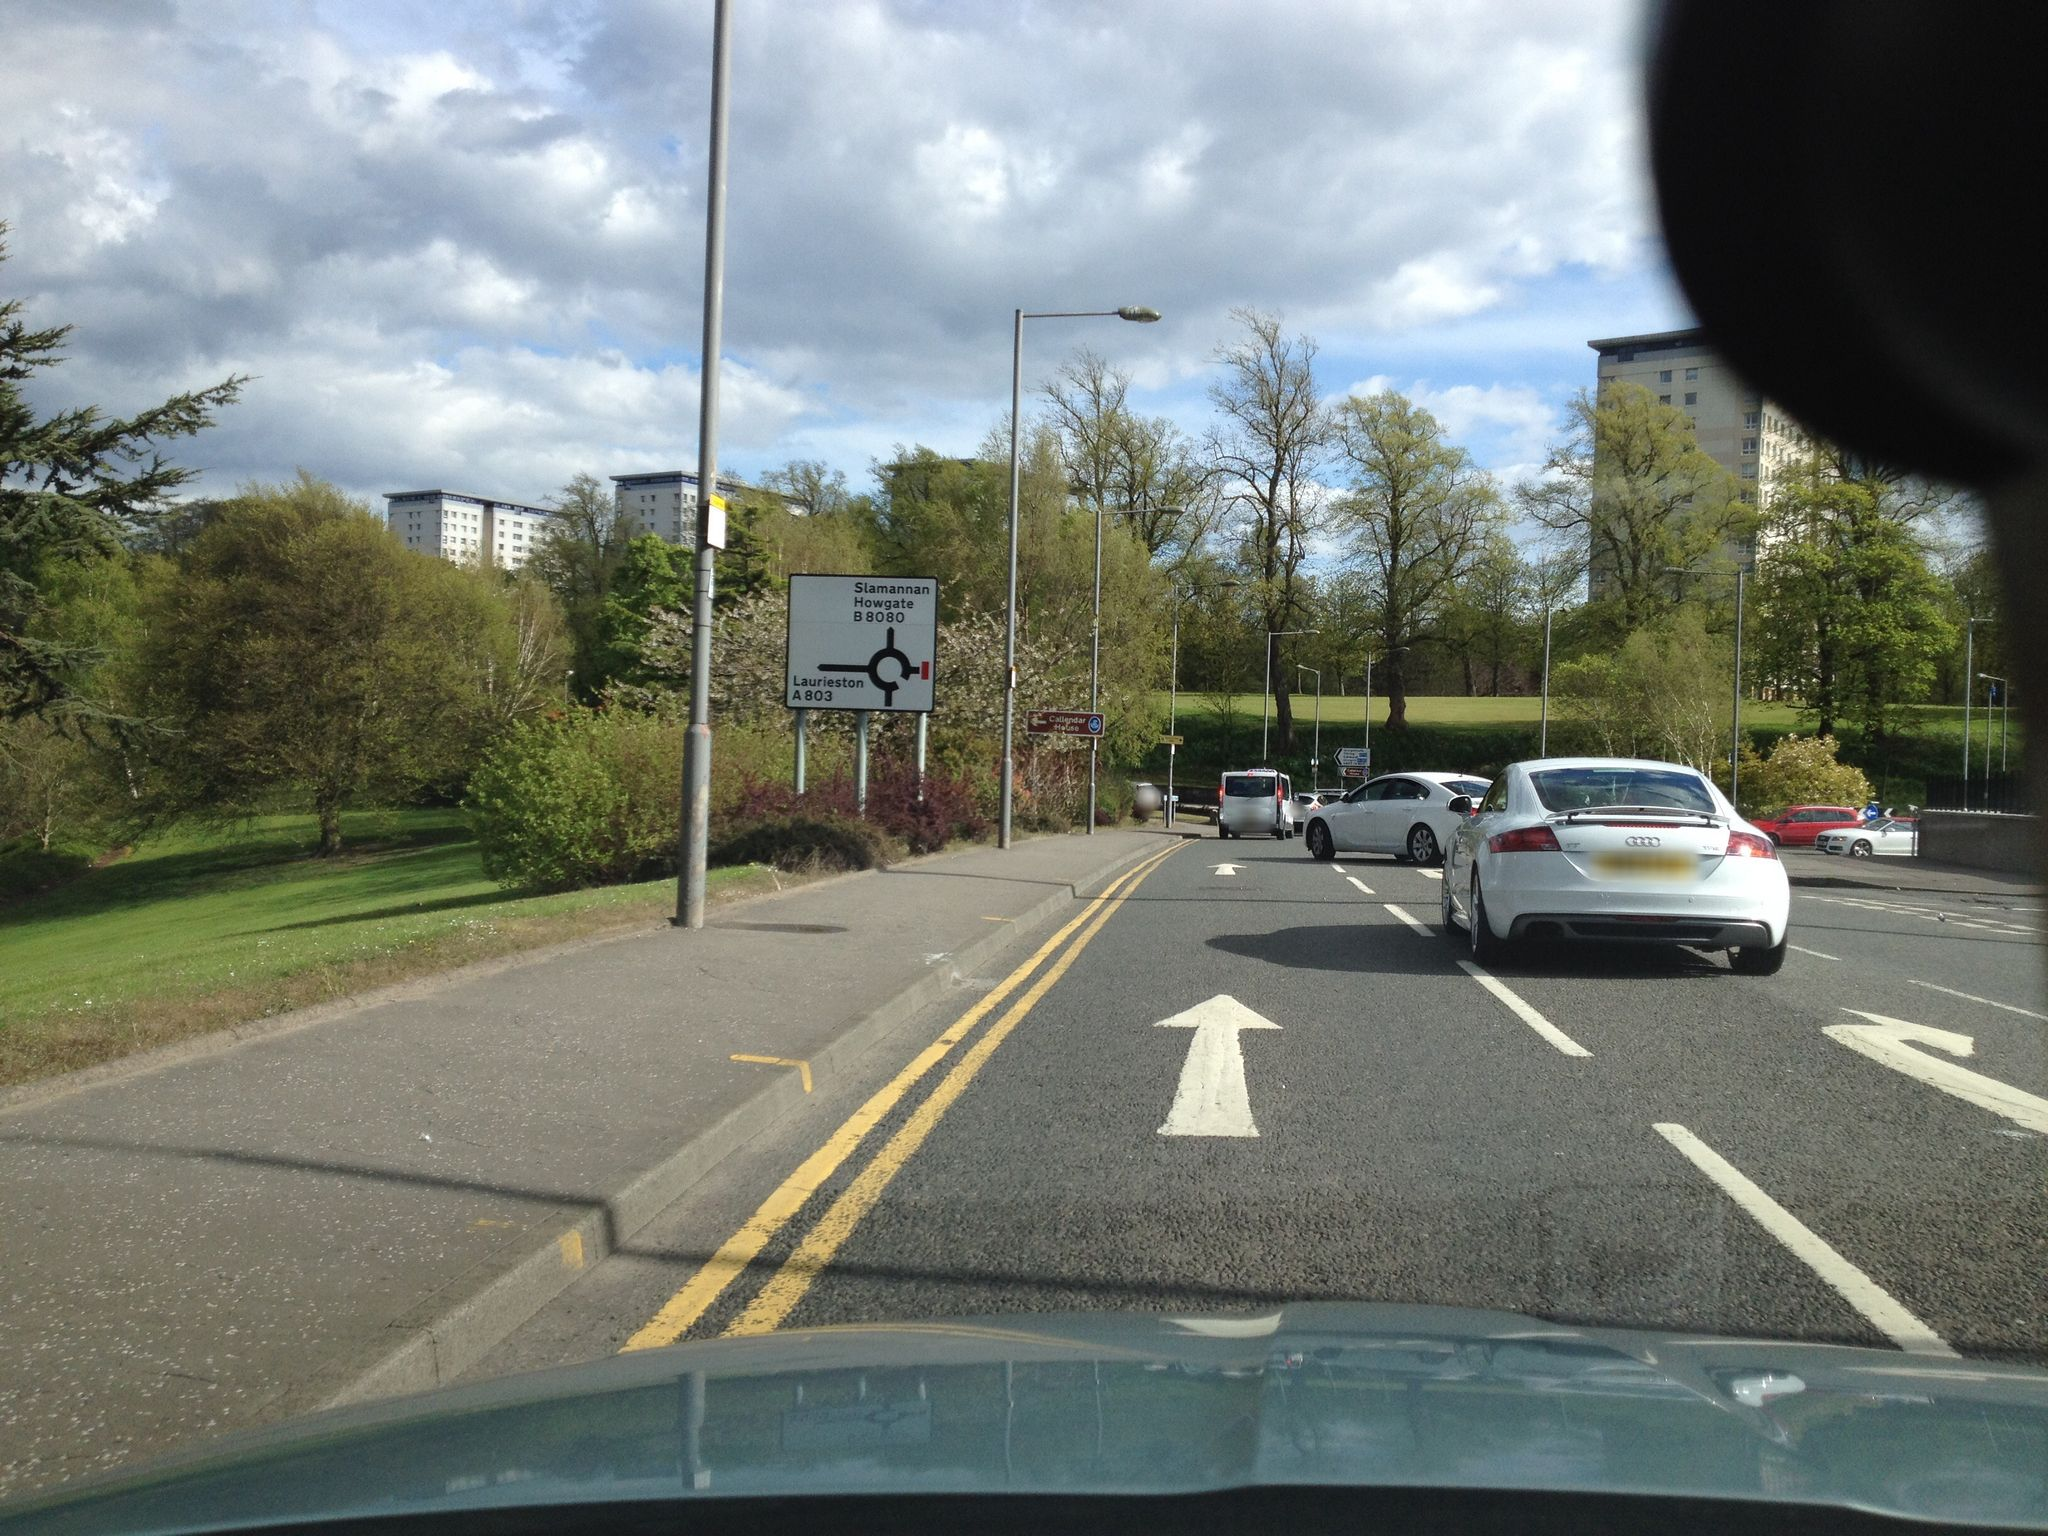car: (1438, 755, 1792, 978), (1301, 771, 1493, 865), (1218, 766, 1293, 841), (1746, 803, 1864, 849), (1814, 816, 1921, 857), (1292, 791, 1329, 833)
